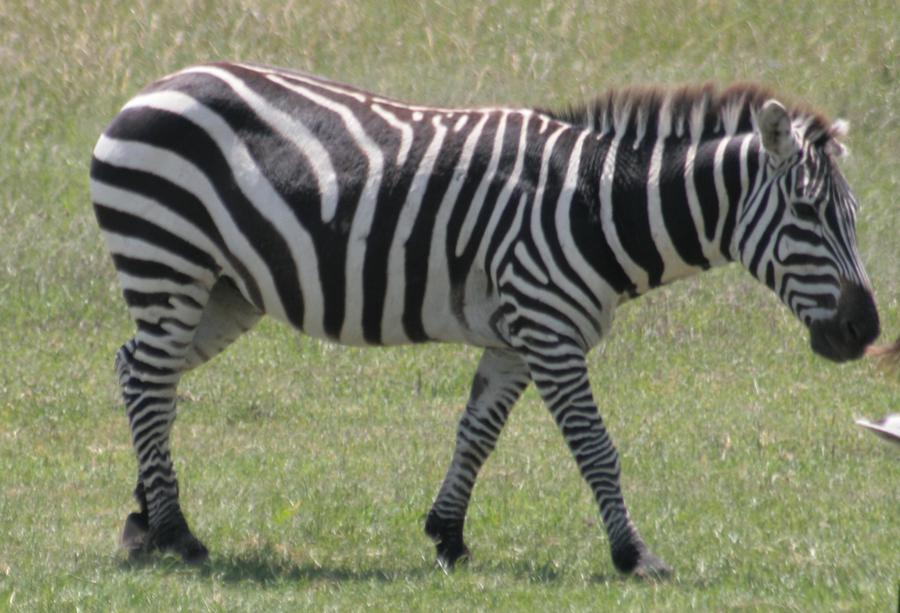zebra_plains: (69, 71, 601, 331)
